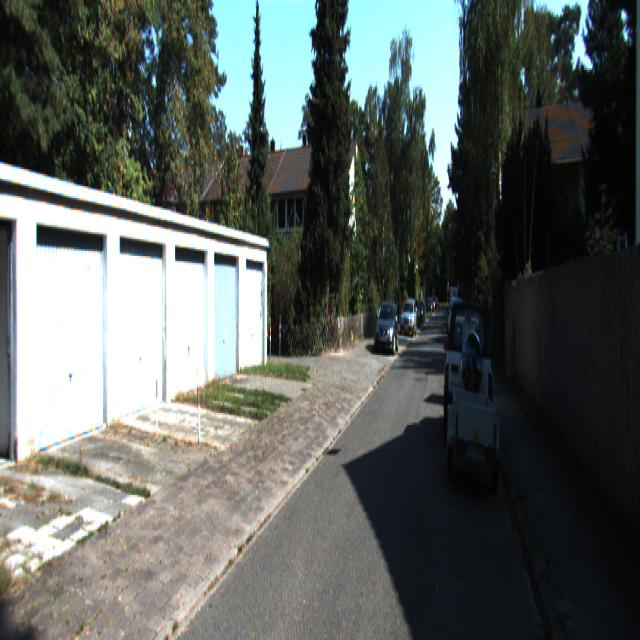Car: (444, 290, 492, 447), (376, 300, 400, 354), (401, 299, 418, 336)
DontCare: (416, 295, 436, 322)
Misc: (452, 382, 500, 495)
